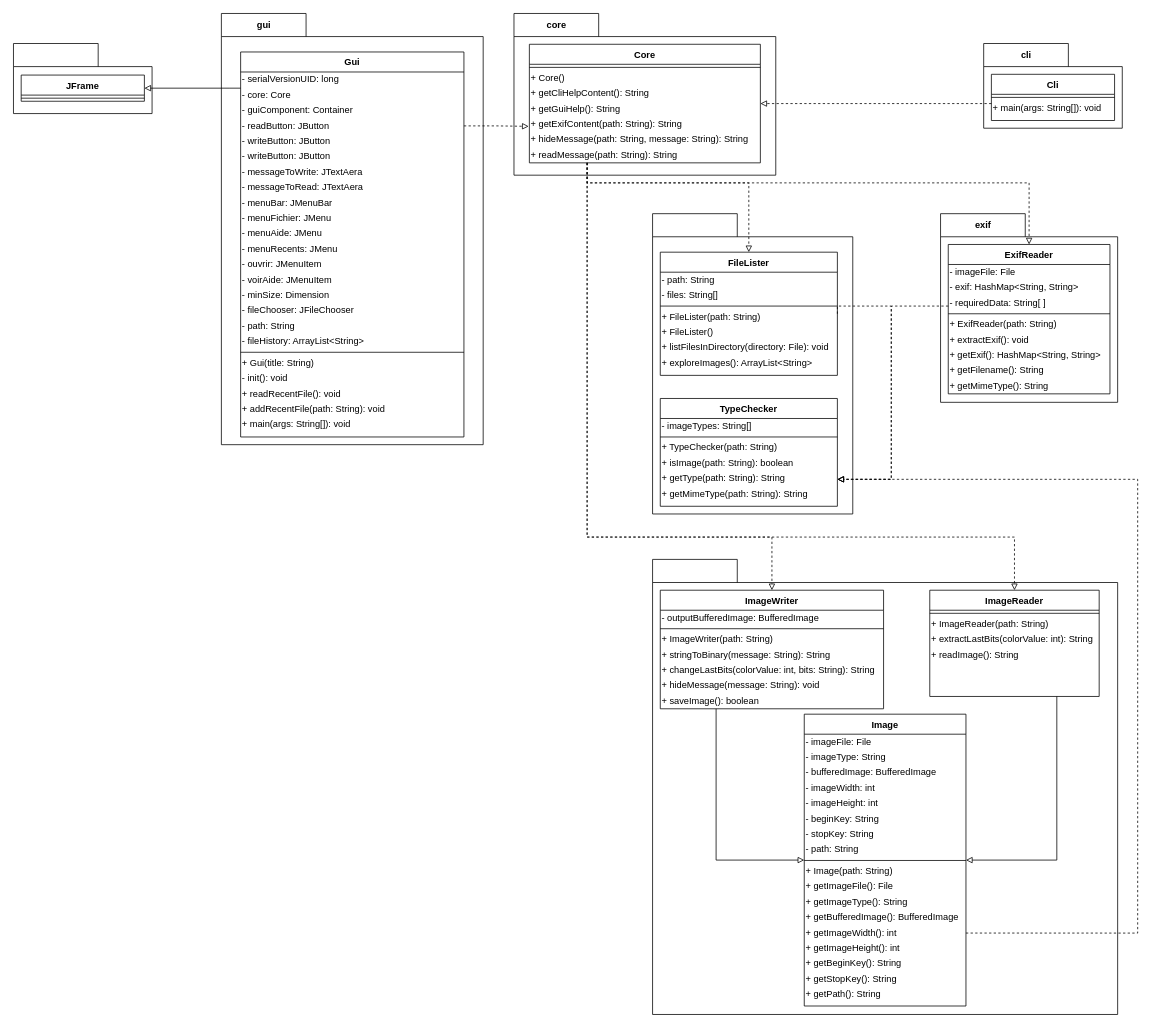
This 1157x1028 diagram has some shape labels left out. The box of each missing label's shape, as (x1, y1, x2, y2) in pixels:
explorer: (652, 213, 853, 514)
steganography: (652, 559, 1118, 1014)
Swing: (13, 43, 152, 114)
